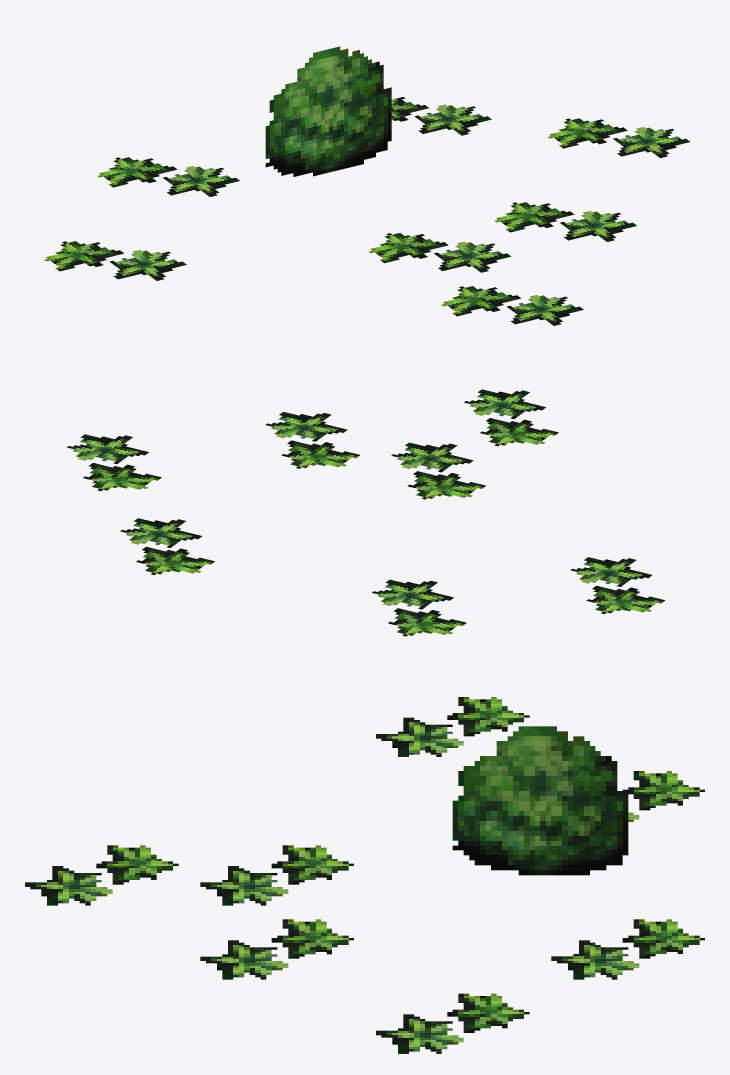
The model's file is grass 01.gltf.
3 views of the same model, one above another, from view 1: azimuth 30°, elevation 25°; view 2: azimuth 150°, elevation 25°; view 3: azimuth 270°, elevation 25° (orthographic). The views are drawn at different scales.
Size of the model in its own units: 10 by 2 by 8.
1 material, 1 textured.
